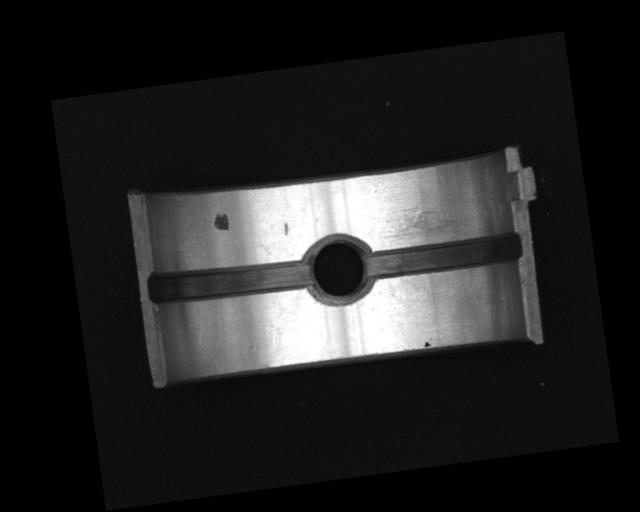blot: (212, 211, 230, 232), (423, 336, 434, 348)
bruise: (281, 221, 289, 236)
gap: (146, 249, 314, 307), (365, 234, 523, 281)
hole: (304, 232, 377, 308)
nick: (264, 294, 284, 346)
scratch: (376, 204, 481, 243)
